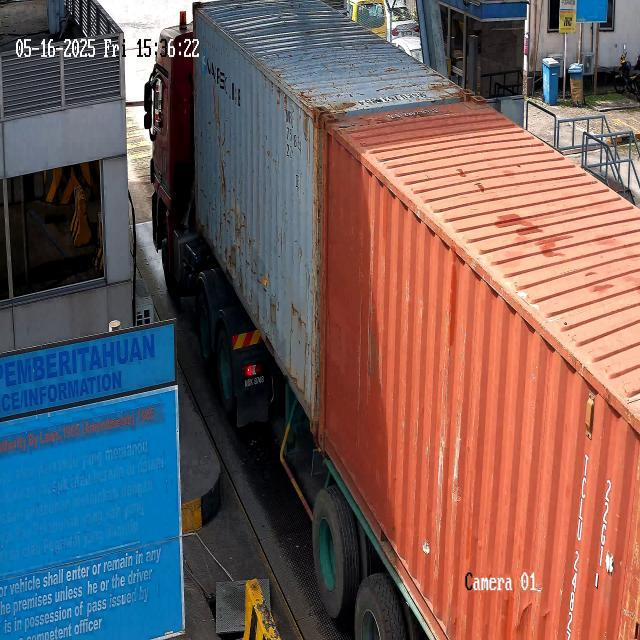ISO: (594, 482, 618, 574)
container_number: (560, 450, 595, 636)
